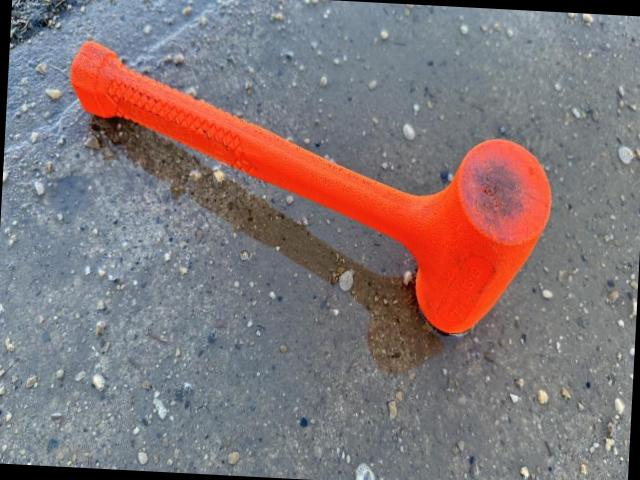hammer: (58, 42, 559, 338)
